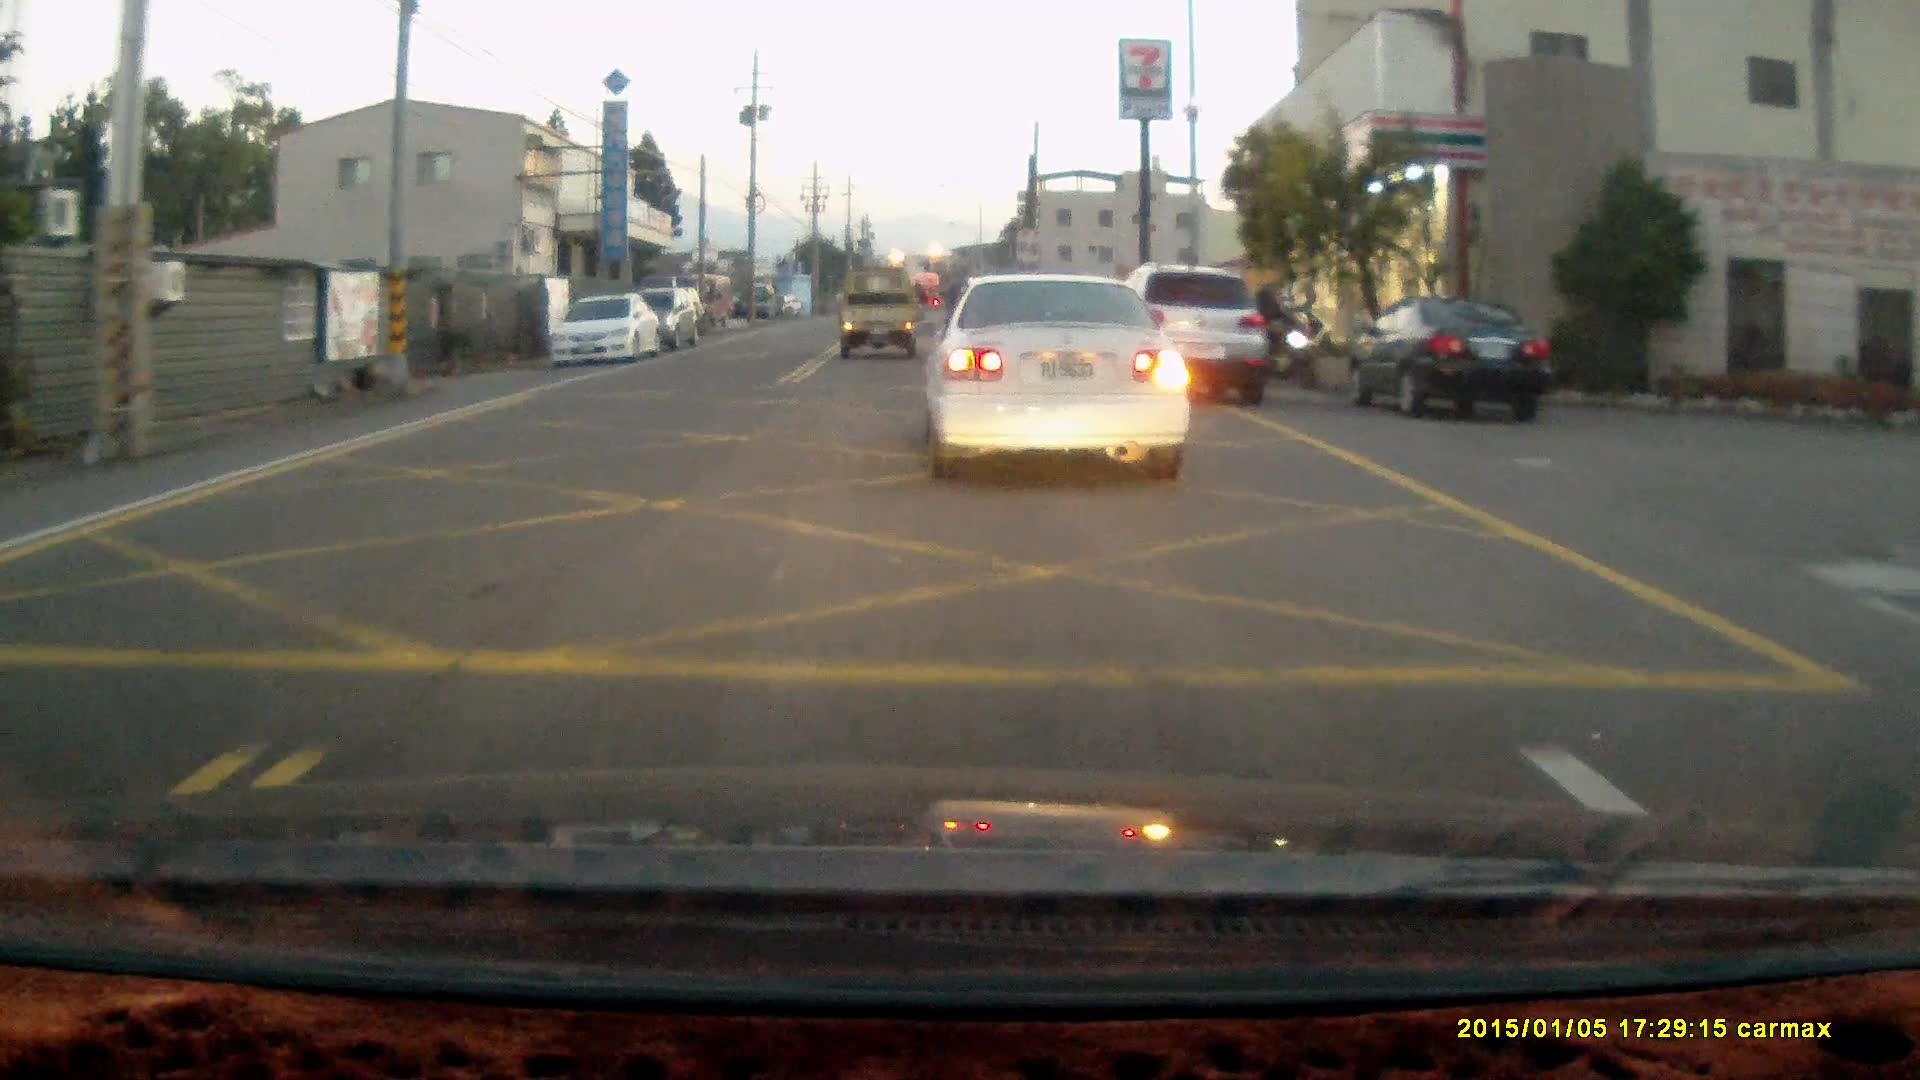rider: (1244, 279, 1321, 387)
vehicle: (936, 273, 1196, 494), (1340, 292, 1556, 424), (1124, 262, 1276, 404), (547, 284, 658, 367), (842, 264, 930, 356), (635, 288, 702, 354)
